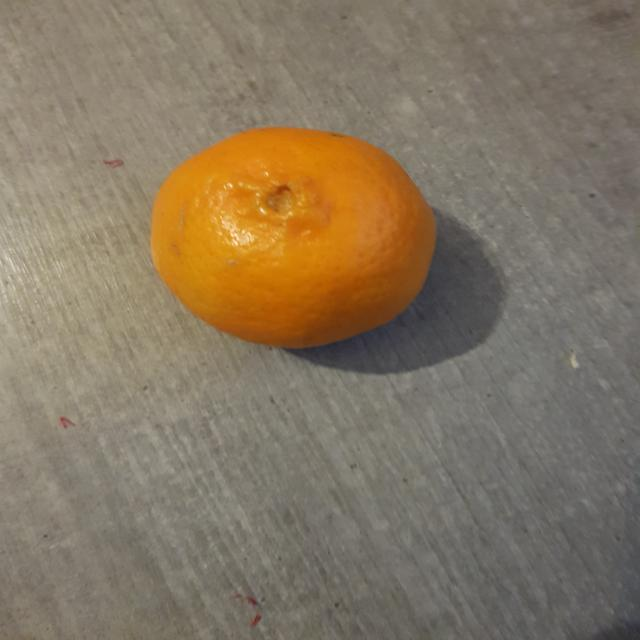Orange: (149, 127, 437, 352)
